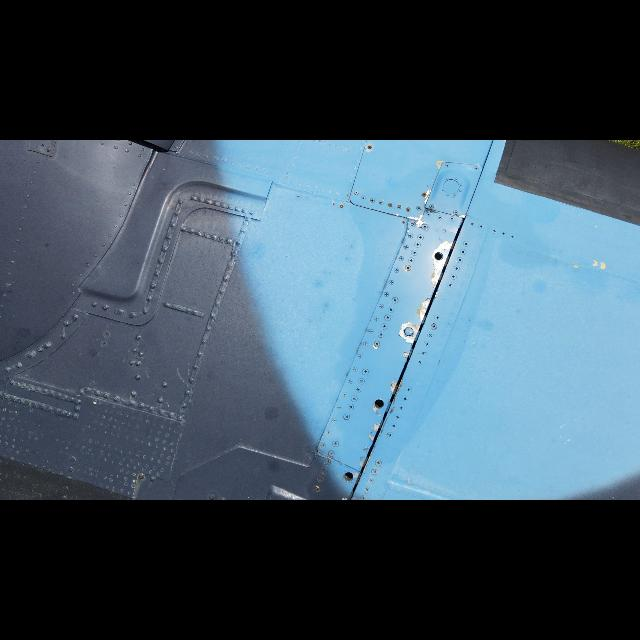Missing Fastener: (374, 395, 386, 409), (343, 472, 353, 484), (432, 251, 443, 261)
